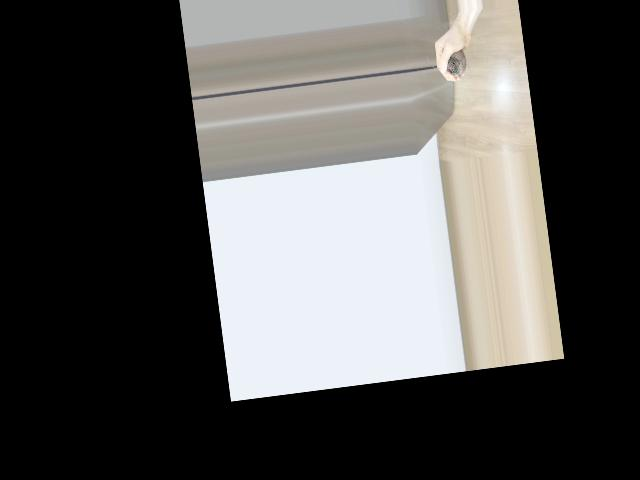beet: (426, 49, 468, 81)
